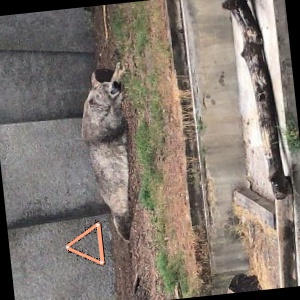triangle: (63, 219, 108, 268)
